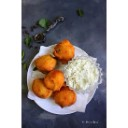bonda: (54, 86, 76, 109), (55, 39, 75, 63), (31, 78, 54, 98), (45, 70, 64, 90), (34, 56, 56, 71)
